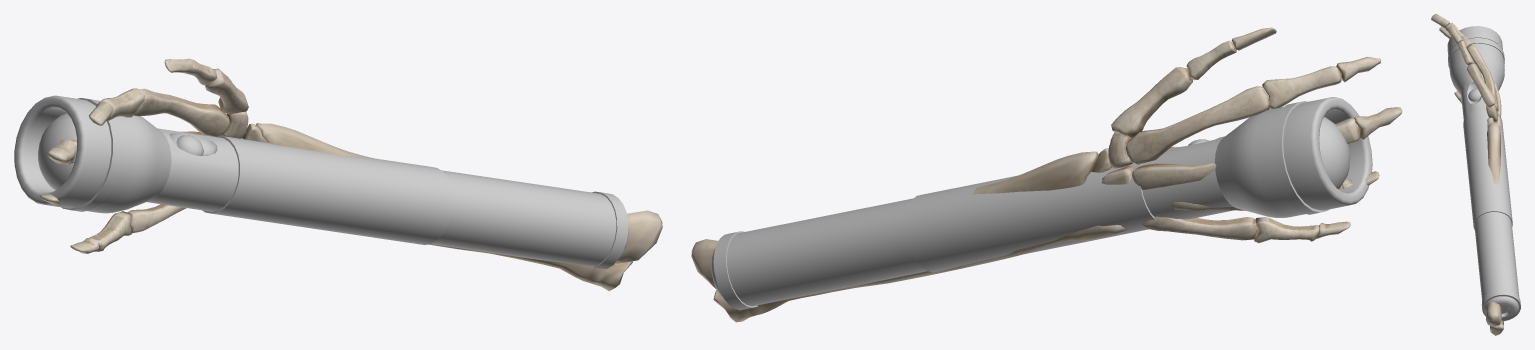
3 renders of one model, left to right at view 1: azimuth 30°, elevation 25°; view 2: azimuth 150°, elevation 25°; view 3: azimuth 270°, elevation 25°, orthographic. The views are drawn at different scales.
Parts seen in each view (by area): view 1: flashlight__0, g; view 2: flashlight__0, g; view 3: flashlight__0, g.
Part boxes in pixels (bbox=[...]): flashlight__0: bbox=[14, 95, 628, 269]; g: bbox=[40, 58, 662, 291]; flashlight__0: bbox=[711, 97, 1372, 310]; g: bbox=[691, 27, 1402, 322]; flashlight__0: bbox=[1447, 26, 1520, 321]; g: bbox=[1431, 14, 1503, 335].
Size of the model in its own units: 1.87 by 1.03 by 0.4403.
